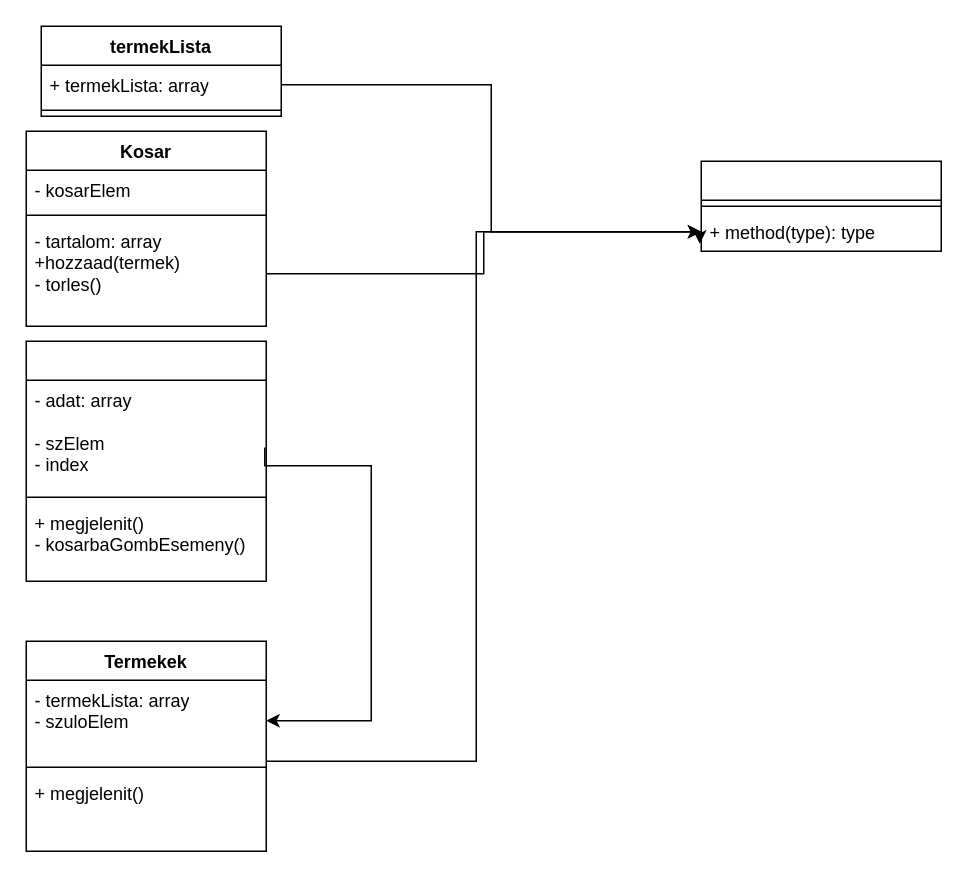
The diagram is 968 pixels wide and 882 high, and some of its shapes have lost their labels. Each missing label, with the box of its shape:
index: (700, 160, 941, 251)
Termek: (25, 340, 266, 581)
